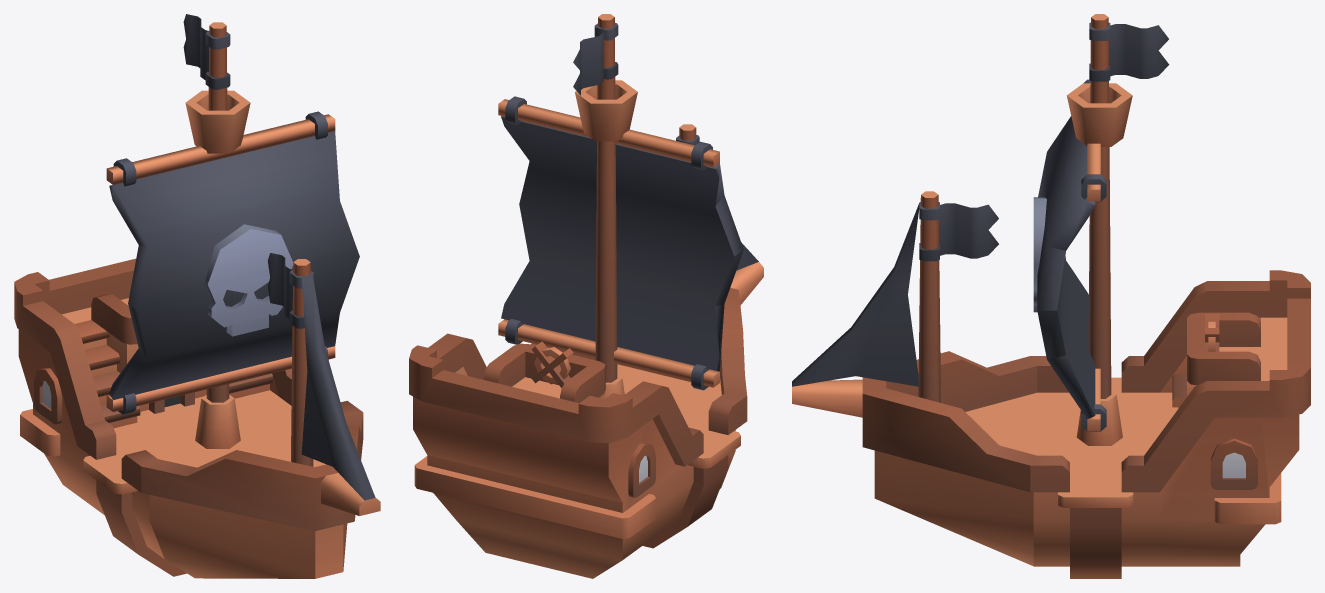
Rendered from ship-pirate-small.glb.
3 views of the same model, side by side, from view 1: azimuth 30°, elevation 25°; view 2: azimuth 150°, elevation 25°; view 3: azimuth 270°, elevation 25° (orthographic). The views are drawn at different scales.
Visible parts, largest first — view 1: ship-pirate-small; view 2: ship-pirate-small; view 3: ship-pirate-small.
Boxes of the visible parts, box(x1,y1,x2,y2) form: ship-pirate-small: box(14, 14, 380, 578); ship-pirate-small: box(409, 14, 763, 578); ship-pirate-small: box(792, 14, 1310, 578).
Bounding box in the file's own units: 4.8 × 9.96 × 8.8.
Materials: 1 (1 with a texture image).
